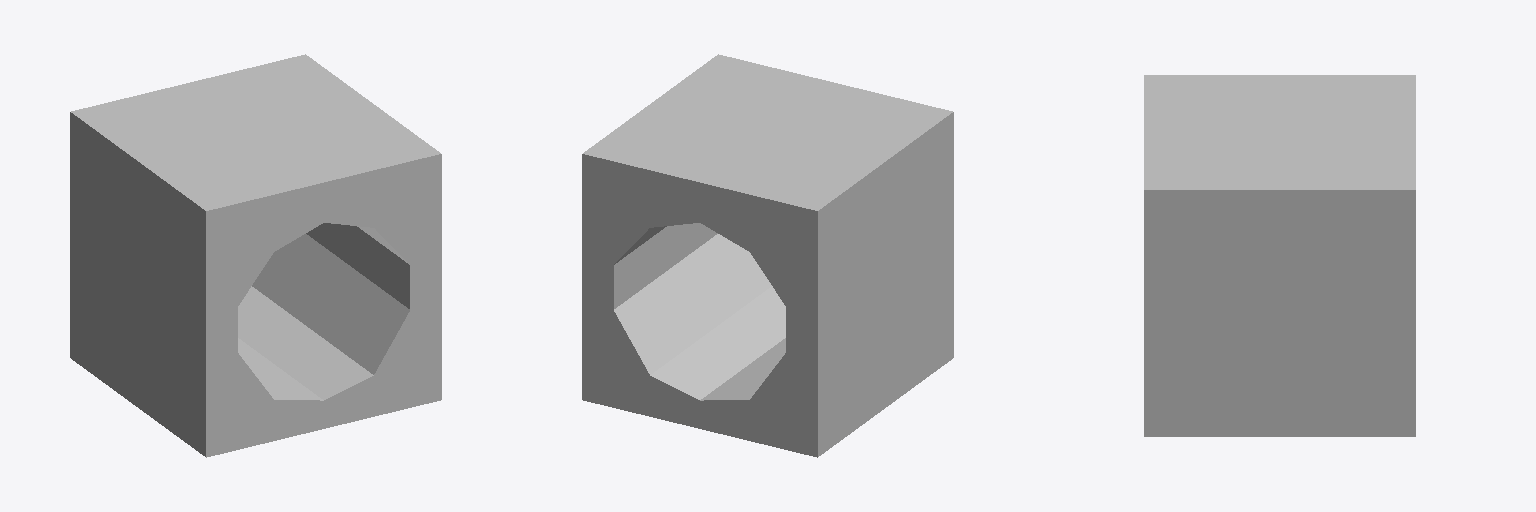
File: seina.obj
3 views of the same model, side by side, from view 1: azimuth 30°, elevation 25°; view 2: azimuth 150°, elevation 25°; view 3: azimuth 270°, elevation 25° (orthographic).
Visible parts, largest first — view 1: seina_Cube; view 2: seina_Cube; view 3: seina_Cube.
Boxes of the visible parts, box(x1,y1,x2,y2) form: seina_Cube: box(70, 54, 441, 457); seina_Cube: box(582, 54, 953, 457); seina_Cube: box(1144, 75, 1415, 436).
Bounding box in the file's own units: 2 × 2 × 2.